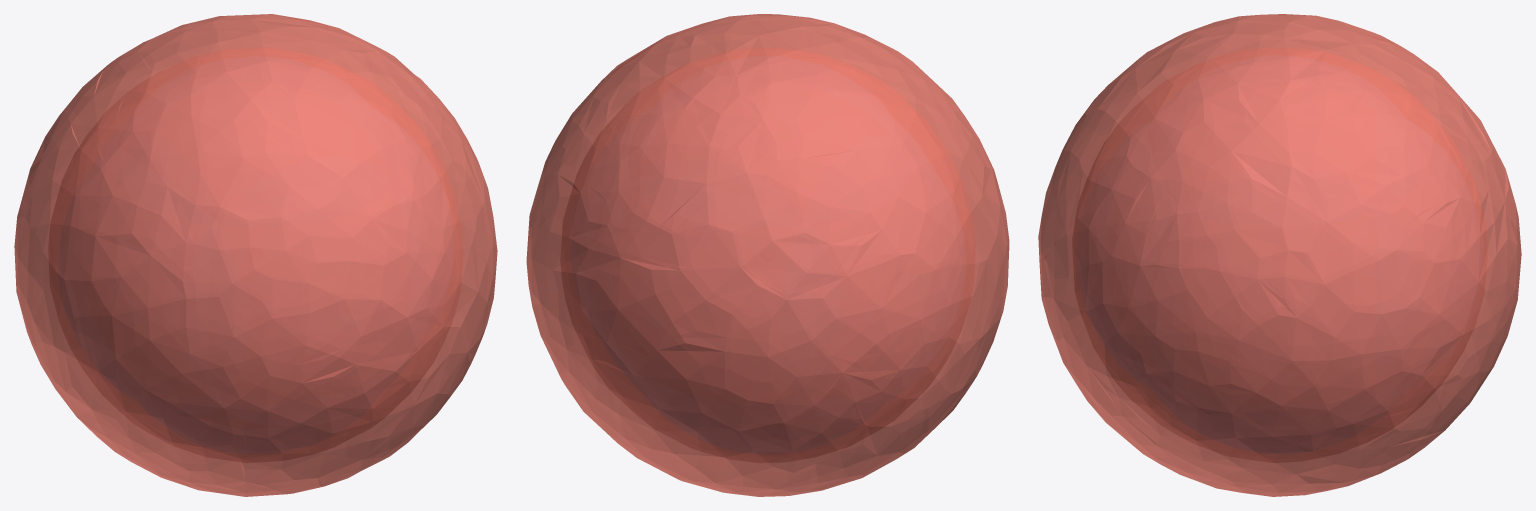
Rendered from orbital.glb.
3 renders of one model, left to right at view 1: azimuth 30°, elevation 25°; view 2: azimuth 150°, elevation 25°; view 3: azimuth 270°, elevation 25°, orthographic.
Parts seen in each view (by area): view 1: Ra_n7_s_ml0_node, Ra_n6_s_ml0_node; view 2: Ra_n7_s_ml0_node, Ra_n6_s_ml0_node; view 3: Ra_n7_s_ml0_node, Ra_n6_s_ml0_node.
Boxes of the visible parts, left/top/right/bottom form: Ra_n7_s_ml0_node: left=14, top=14, right=497, bottom=496; Ra_n6_s_ml0_node: left=48, top=48, right=463, bottom=462; Ra_n7_s_ml0_node: left=526, top=14, right=1009, bottom=496; Ra_n6_s_ml0_node: left=560, top=48, right=975, bottom=462; Ra_n7_s_ml0_node: left=1038, top=14, right=1521, bottom=496; Ra_n6_s_ml0_node: left=1072, top=48, right=1487, bottom=462.
Size of the model in its own units: 3.55 by 3.56 by 3.55.
